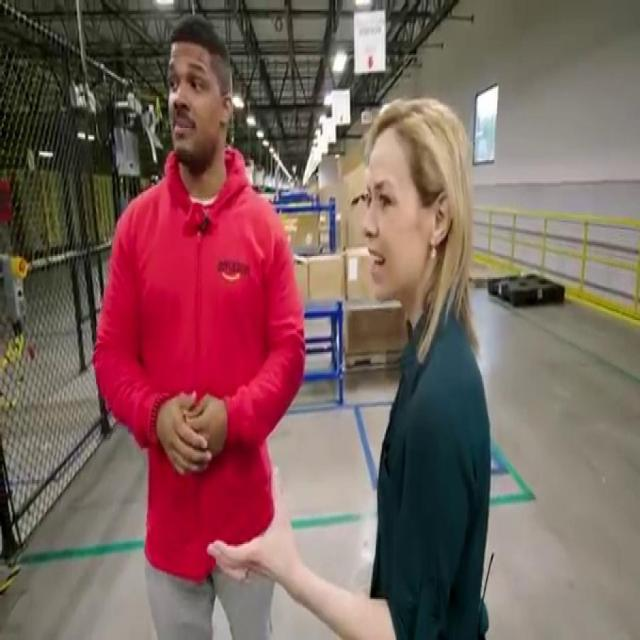person: (206, 58, 496, 640), (89, 13, 307, 639)
